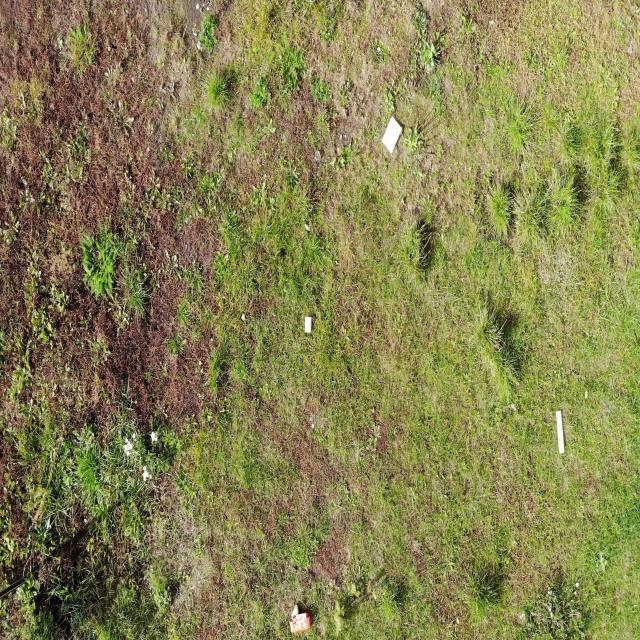rubbish: (381, 115, 403, 155), (288, 613, 312, 635), (555, 411, 566, 454), (304, 317, 313, 335), (315, 151, 321, 162)
